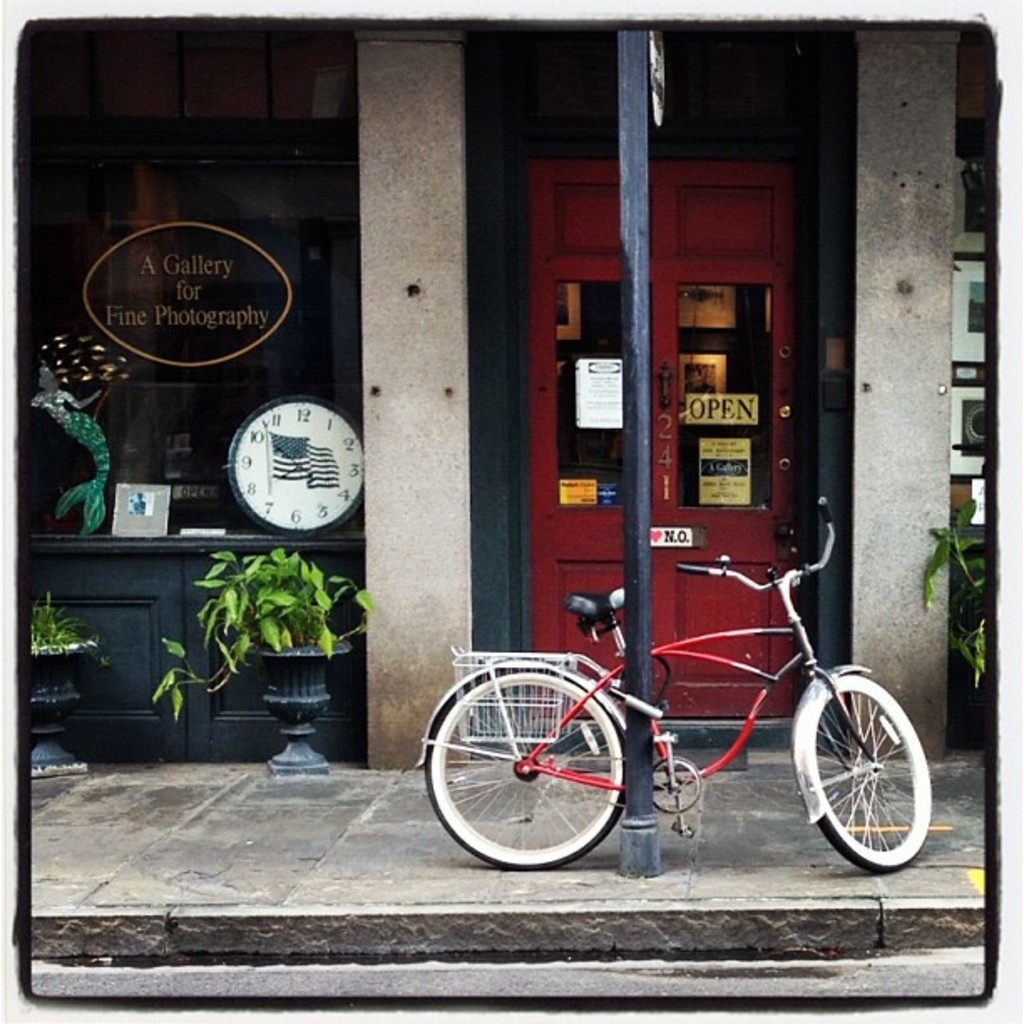Bike: (409, 529, 989, 867)
